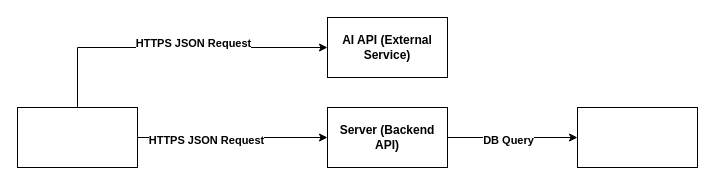
Image size: 715x185. Some labels were removed from this diagram. The box of each missing label's shape, as (x1, y1, x2, y2) in pixels:
Client (Browser UI): (16, 106, 138, 168)
Database: (576, 106, 698, 168)
